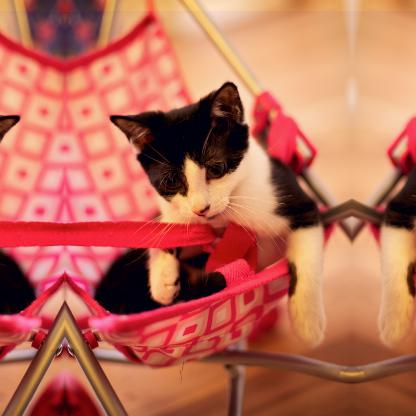Cat: (92, 79, 328, 349)
